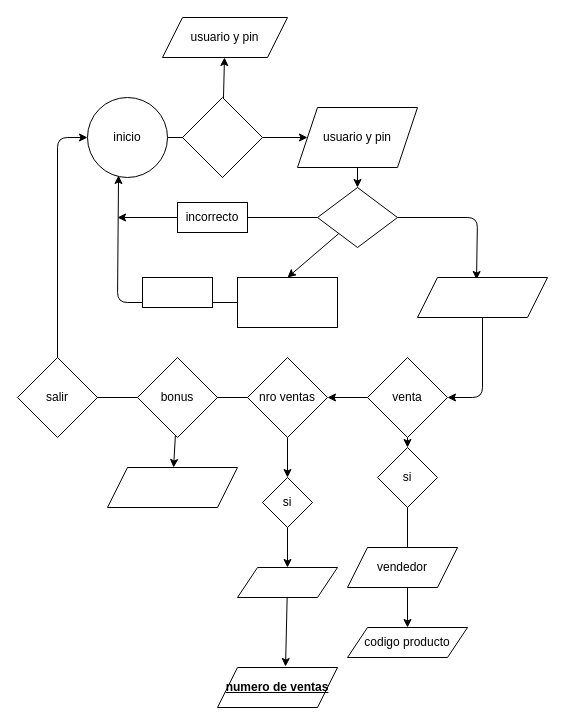
Some shapes in this 565 by 725 pixel diagram are drawn without their labels. Each missing label, with the centre of its shape:
"decision" goes at (x=482, y=297).
"id vendedor" goes at (x=287, y=582).
"pertenece?" goes at (x=357, y=217).
"rechazar" goes at (x=287, y=302).
"registrado?" goes at (x=222, y=137).
"vacio" goes at (x=177, y=292).
"ventas de vendedores (multiple opcion)" goes at (x=172, y=487).
